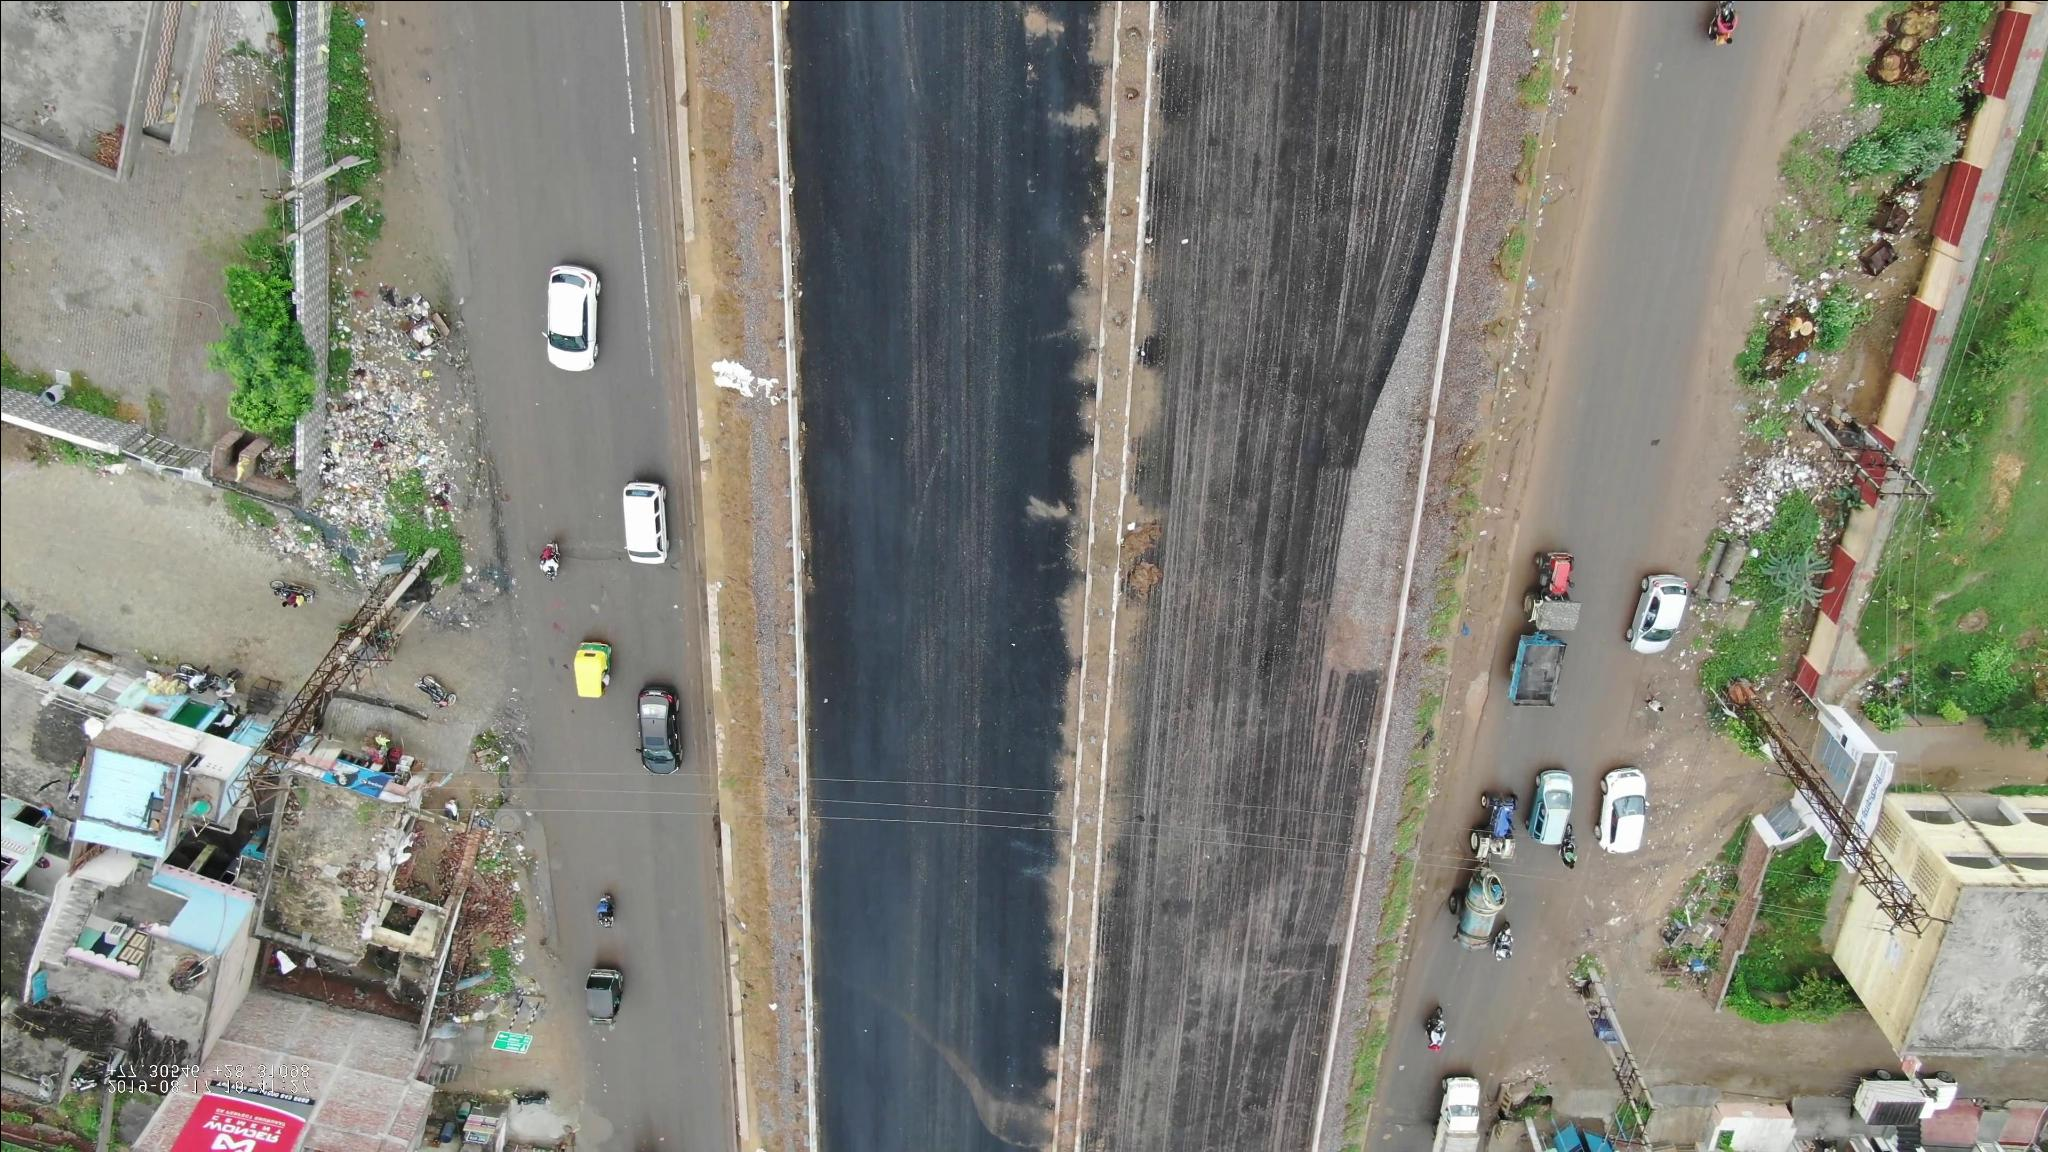Road_side_garbage: (309, 319, 429, 570)
